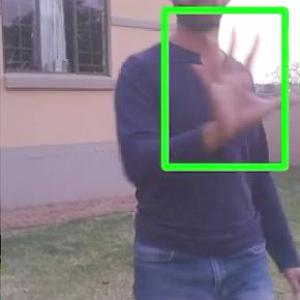follow_hand: (186, 25, 299, 142)
